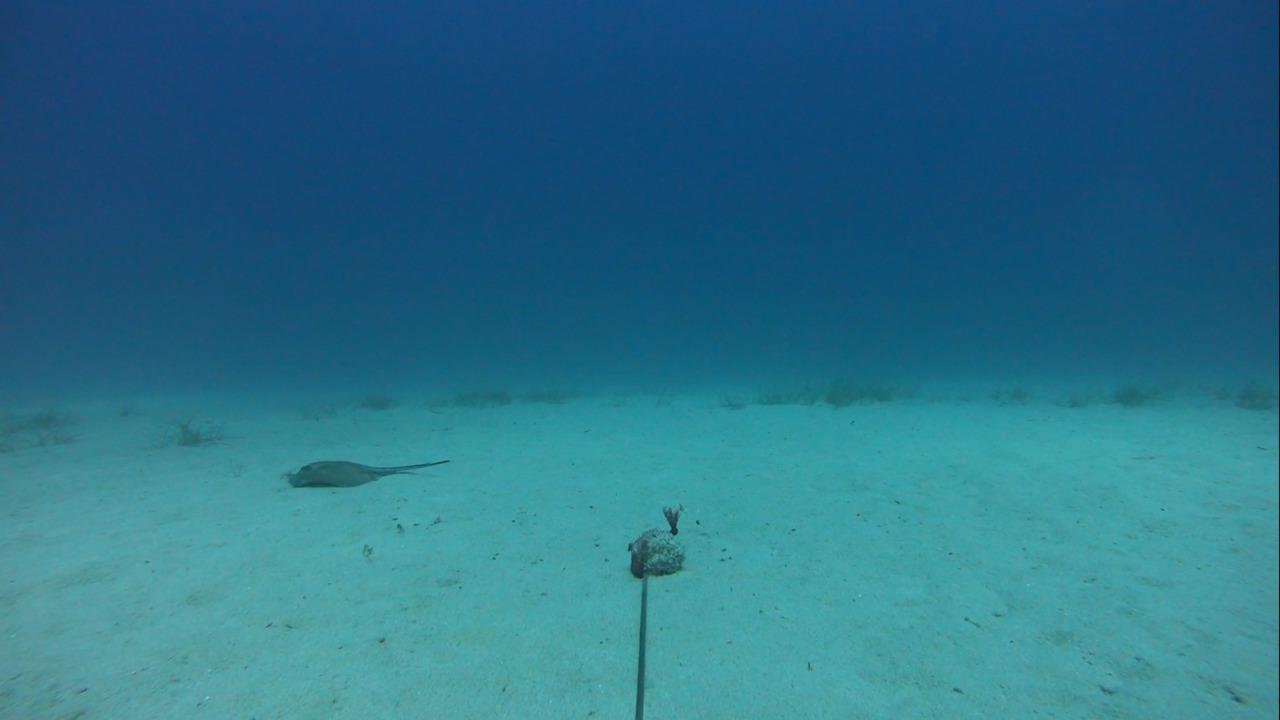myliobatis: (281, 453, 450, 492)
